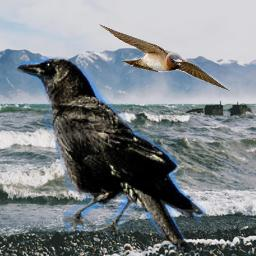Crow: (7, 55, 206, 256)
Swallow: (96, 21, 231, 91)
